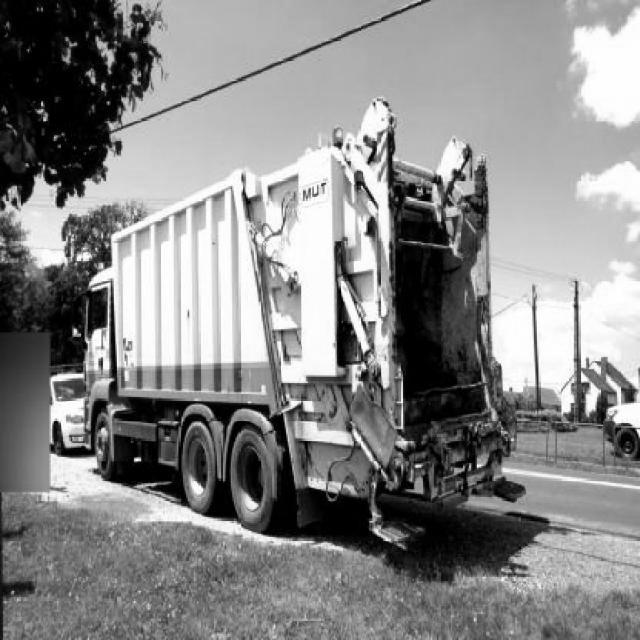Garbage Truck: (76, 100, 523, 537)
